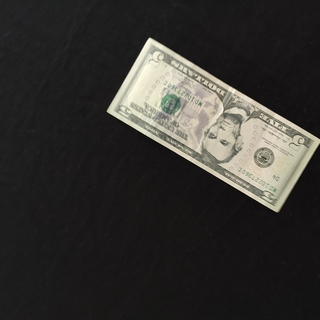5USDFront: (105, 37, 320, 214)
